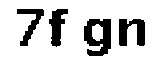7: (12, 4, 46, 53)
f: (48, 7, 75, 51)
g: (79, 17, 115, 59)
n: (117, 15, 149, 51)
